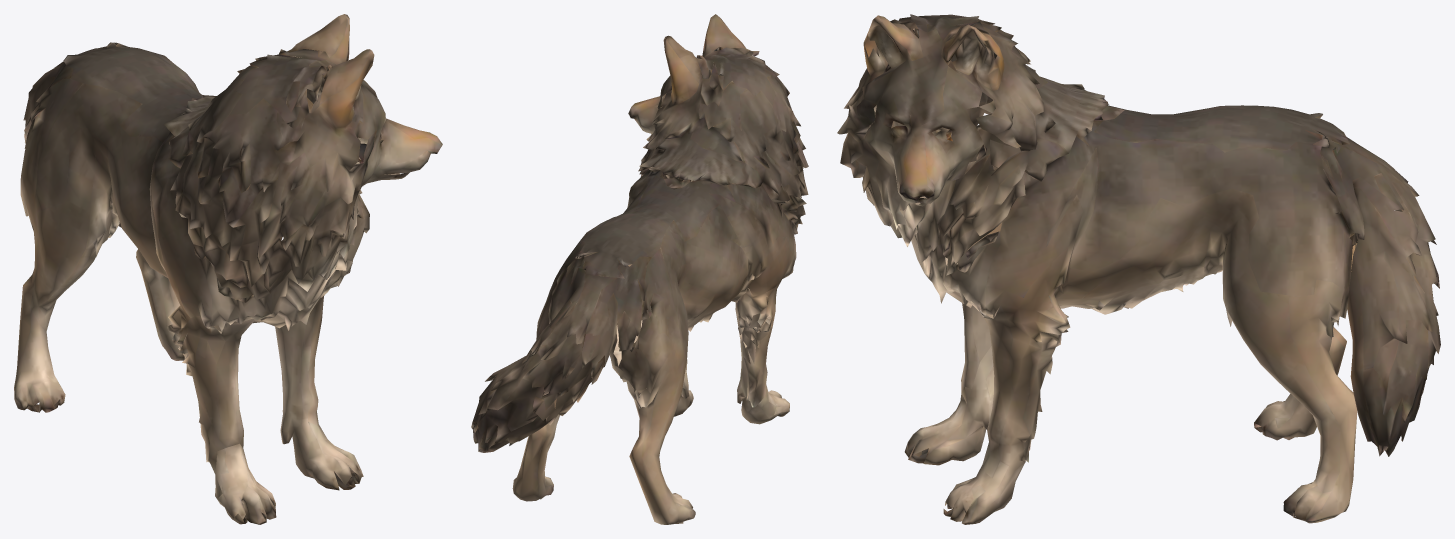
Rendered from wolf.phone.glb.
3 renders of one model, left to right at view 1: azimuth 30°, elevation 25°; view 2: azimuth 150°, elevation 25°; view 3: azimuth 270°, elevation 25°, orthographic. The views are drawn at different scales.
Parts seen in each view (by area): view 1: wolf.raw; view 2: wolf.raw; view 3: wolf.raw.
Boxes of the visible parts, box(x1,y1,x2,y2) form: wolf.raw: box(14, 14, 442, 524); wolf.raw: box(471, 14, 808, 524); wolf.raw: box(837, 14, 1440, 524).
Bounding box in the file's own units: 0.4779 × 0.8501 × 0.9426.
1 material, 1 textured.
